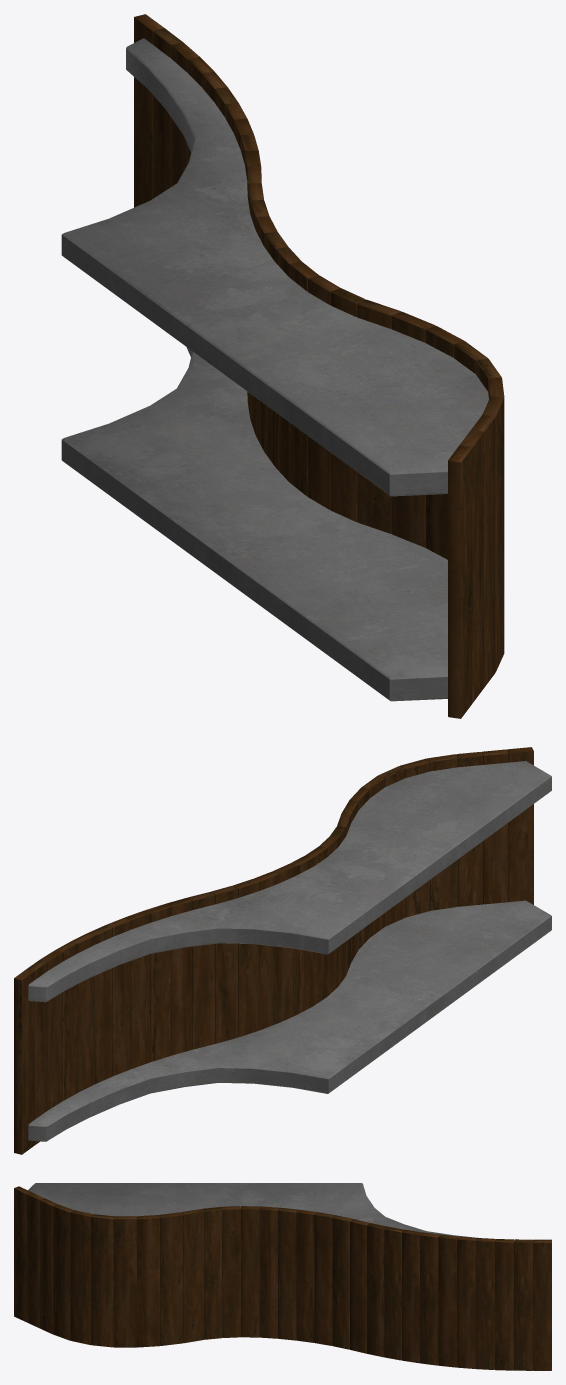
The model's file is cP_SunbathingChair.dae.
3 renders of one model, top to bottom at view 1: azimuth 30°, elevation 25°; view 2: azimuth 150°, elevation 25°; view 3: azimuth 270°, elevation 25°, orthographic. The views are drawn at different scales.
Parts seen in each view (by area): view 1: cP_SunbathingChair.001; view 2: cP_SunbathingChair.001; view 3: cP_SunbathingChair.001.
Part boxes in pixels (box(x1,y1,x2,y2)): cP_SunbathingChair.001: box(61, 14, 504, 718); cP_SunbathingChair.001: box(14, 747, 551, 1154); cP_SunbathingChair.001: box(14, 1183, 551, 1370).
Size of the model in its own units: 1 by 3.42 by 0.9007.
